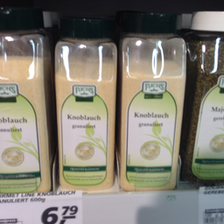spices: (118, 12, 186, 191), (53, 10, 117, 191), (1, 5, 52, 194), (182, 11, 224, 181)
